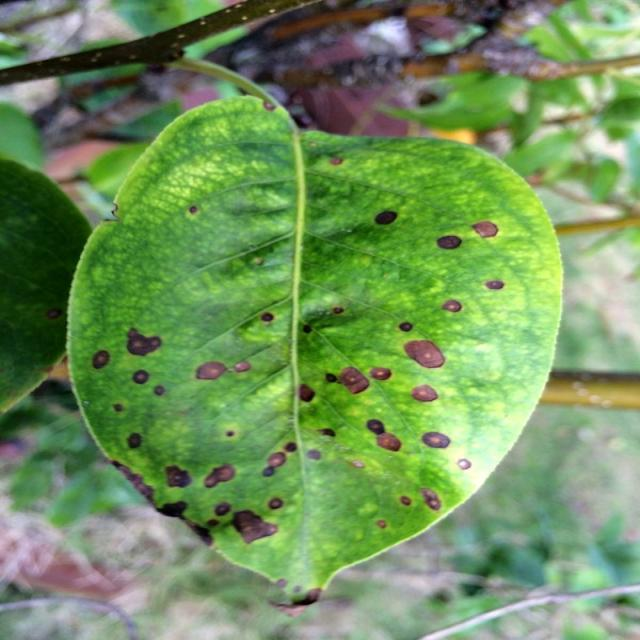leaf_spot: (20, 91, 561, 606)
